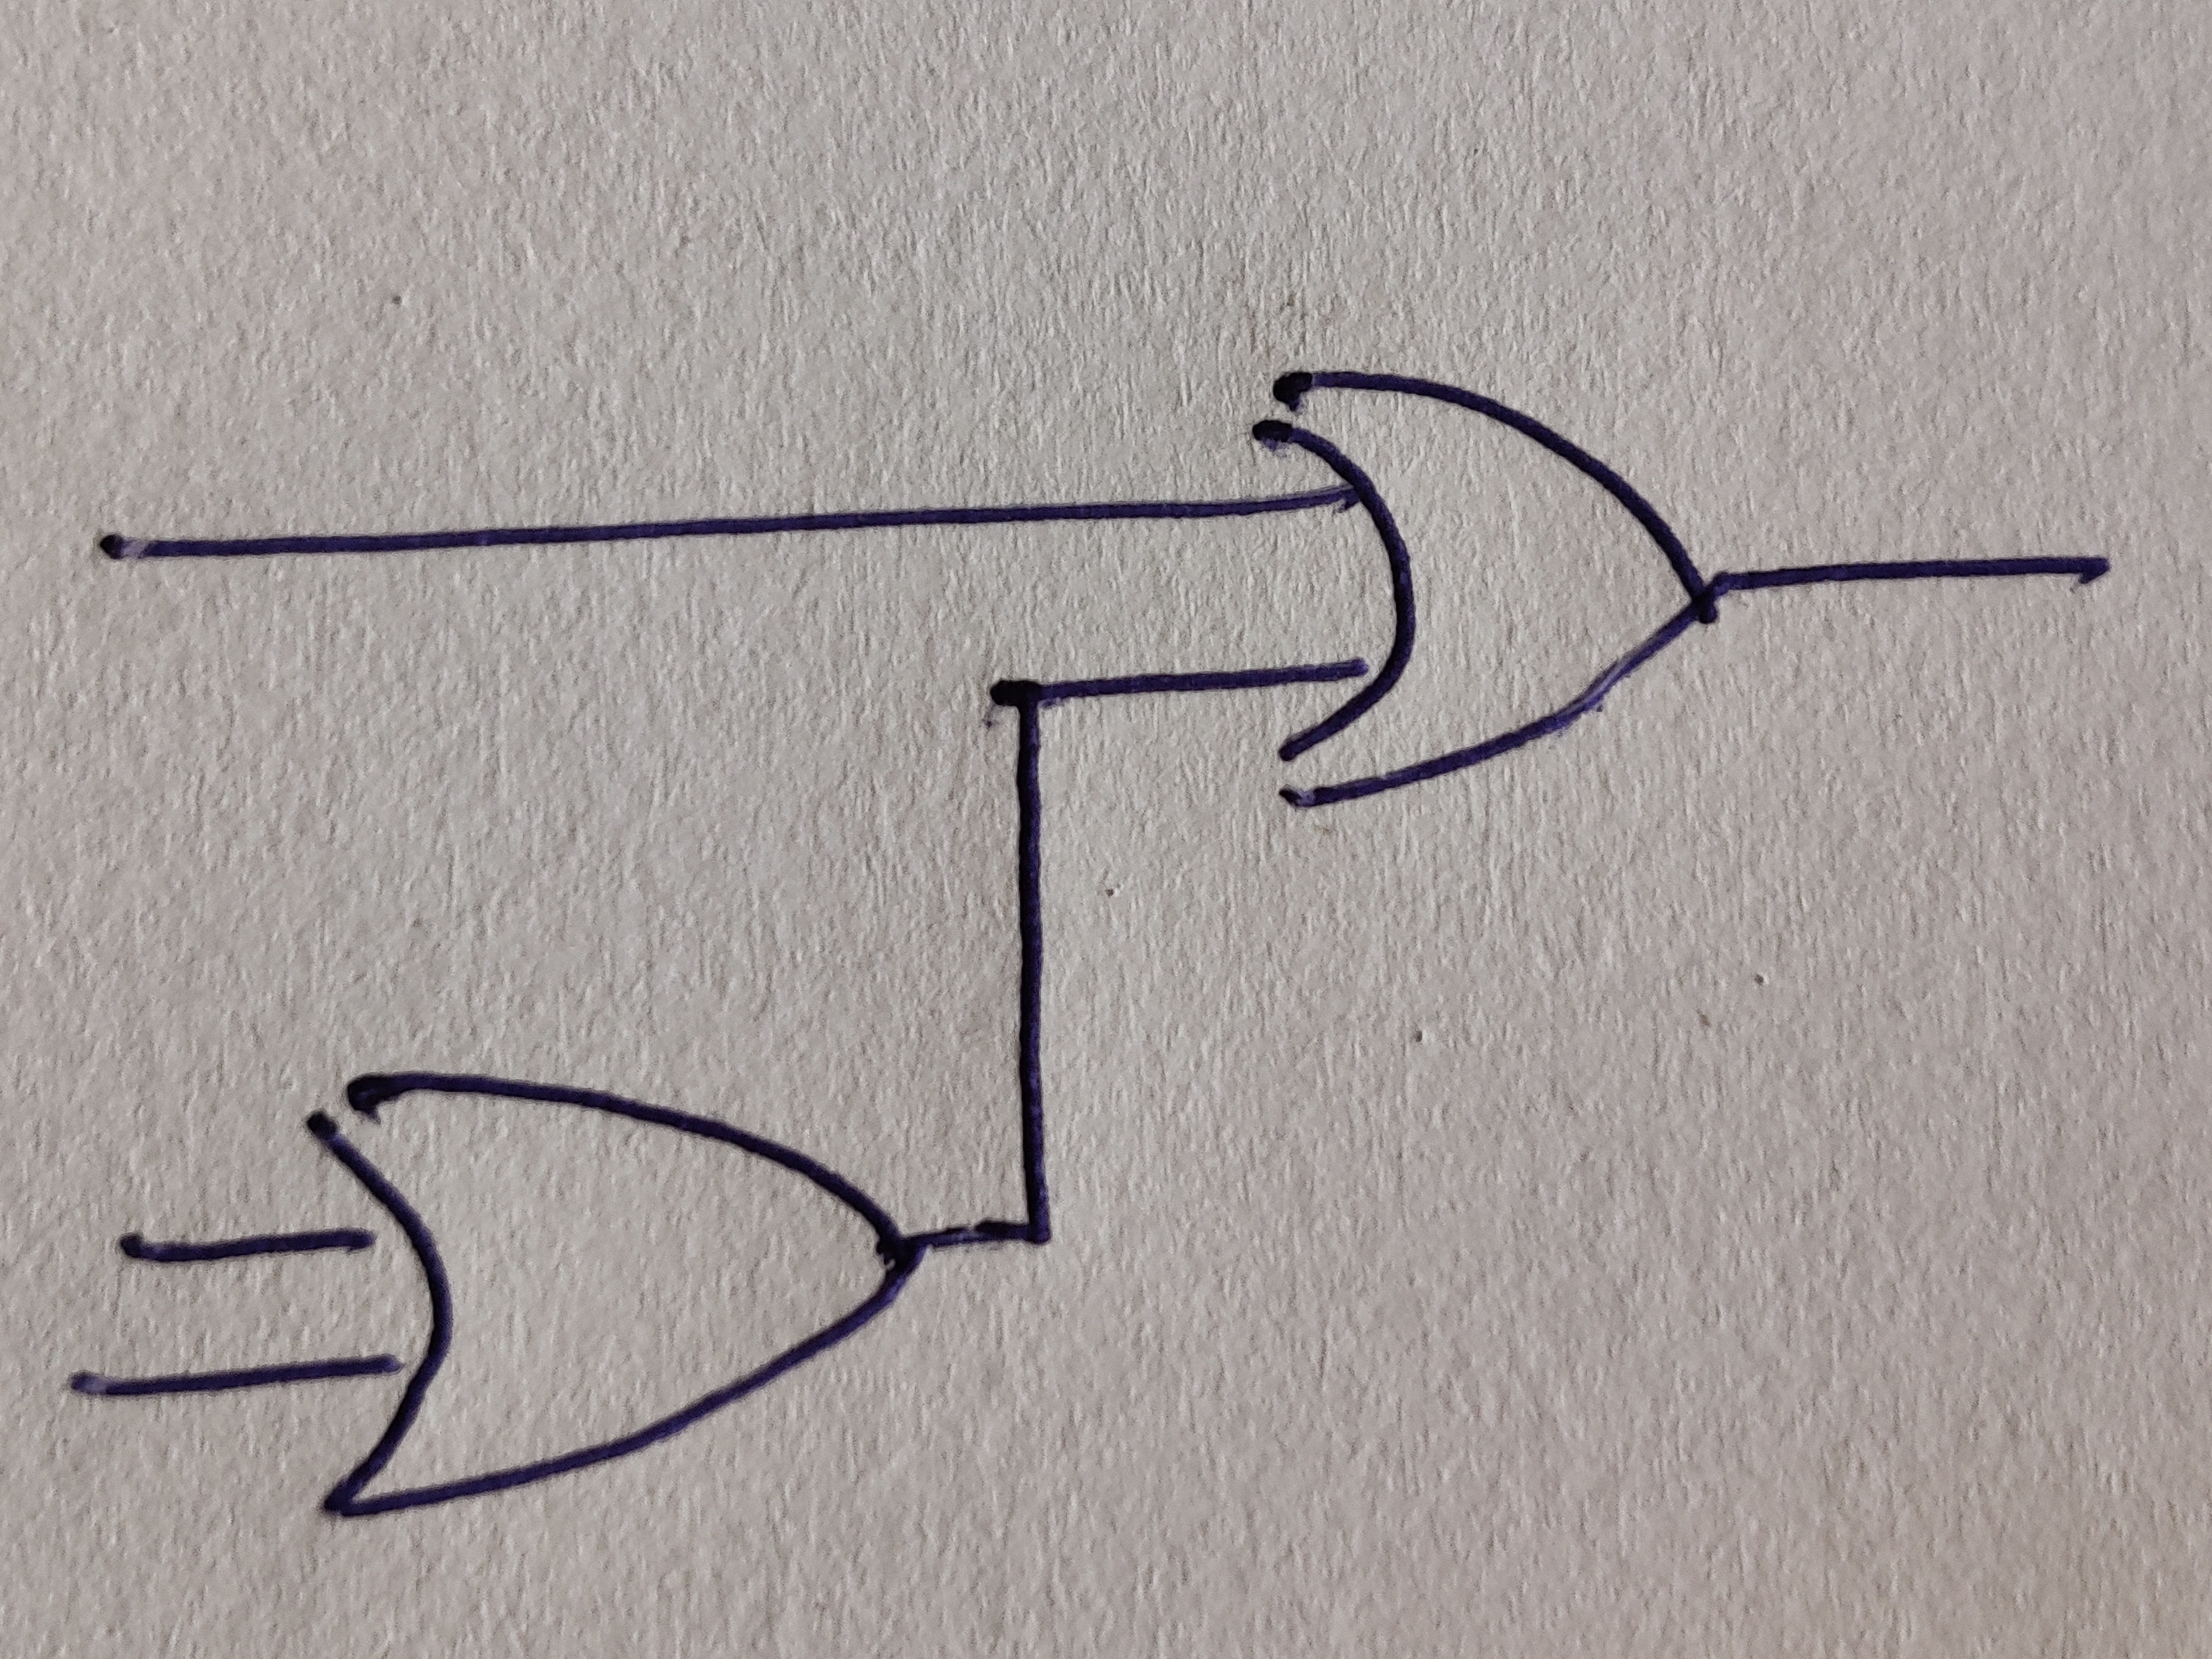or: (307, 1075, 927, 1516), (1252, 369, 1730, 809)
